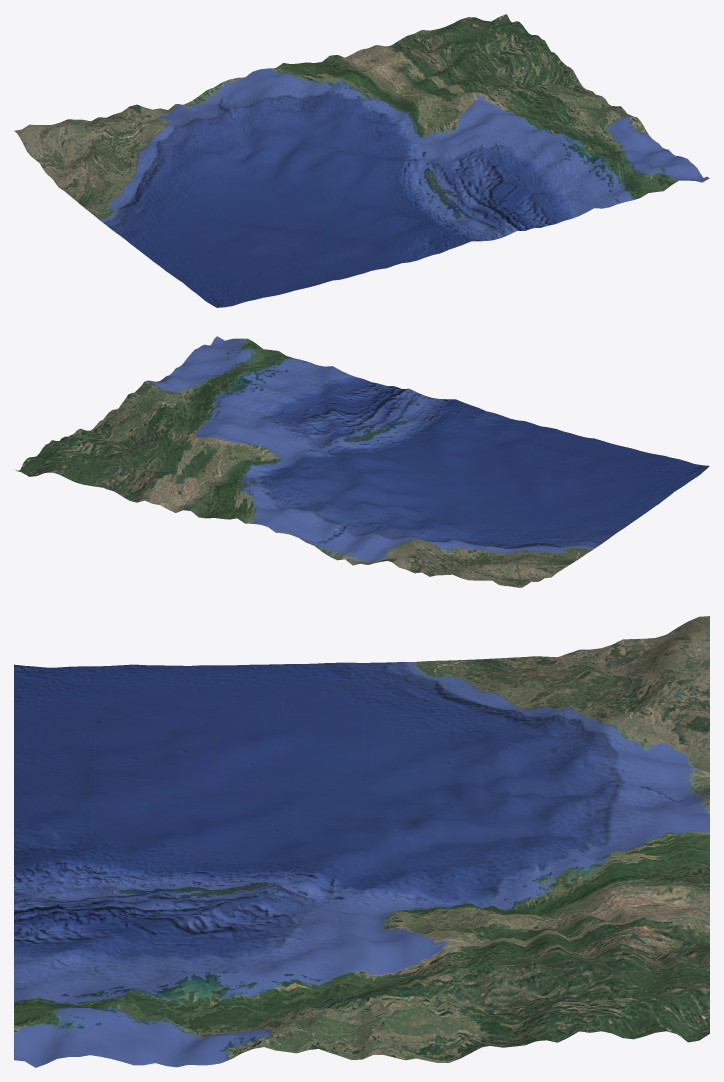
The model's file is TD_real map_big.fbx.
3 renders of one model, top to bottom at view 1: azimuth 30°, elevation 25°; view 2: azimuth 150°, elevation 25°; view 3: azimuth 270°, elevation 25°, orthographic. The views are drawn at different scales.
Visible parts, largest first — view 1: EXPORT_GOOGLE_SAT_WM.001; view 2: EXPORT_GOOGLE_SAT_WM.001; view 3: EXPORT_GOOGLE_SAT_WM.001.
Part boxes in pixels (left/top/right/bottom): EXPORT_GOOGLE_SAT_WM.001: left=14, top=14, right=709, bottom=307; EXPORT_GOOGLE_SAT_WM.001: left=15, top=336, right=709, bottom=587; EXPORT_GOOGLE_SAT_WM.001: left=14, top=616, right=709, bottom=1067.
Size of the model in its own units: 6848759 by 461400 by 4891971.
